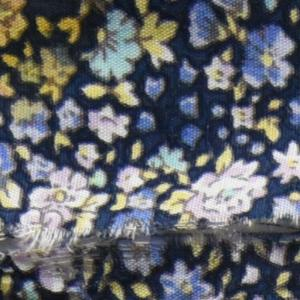Damage: (1, 208, 300, 279)
Stain: (1, 1, 102, 118), (1, 287, 89, 300)
